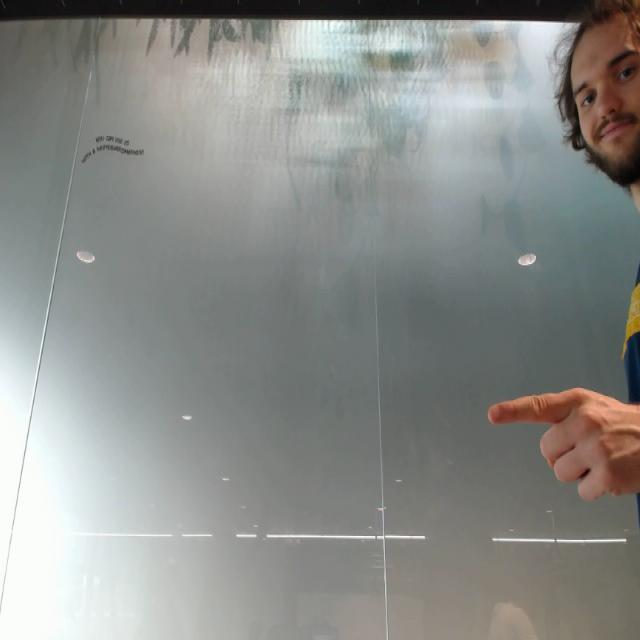left: (484, 373, 639, 518)
